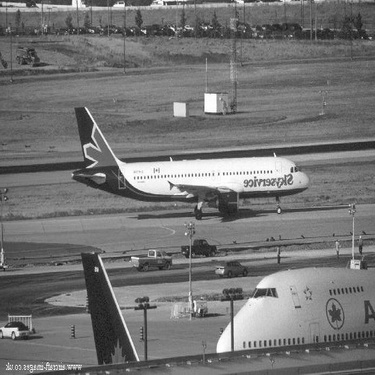airplane: (39, 98, 327, 205), (202, 238, 370, 362)
